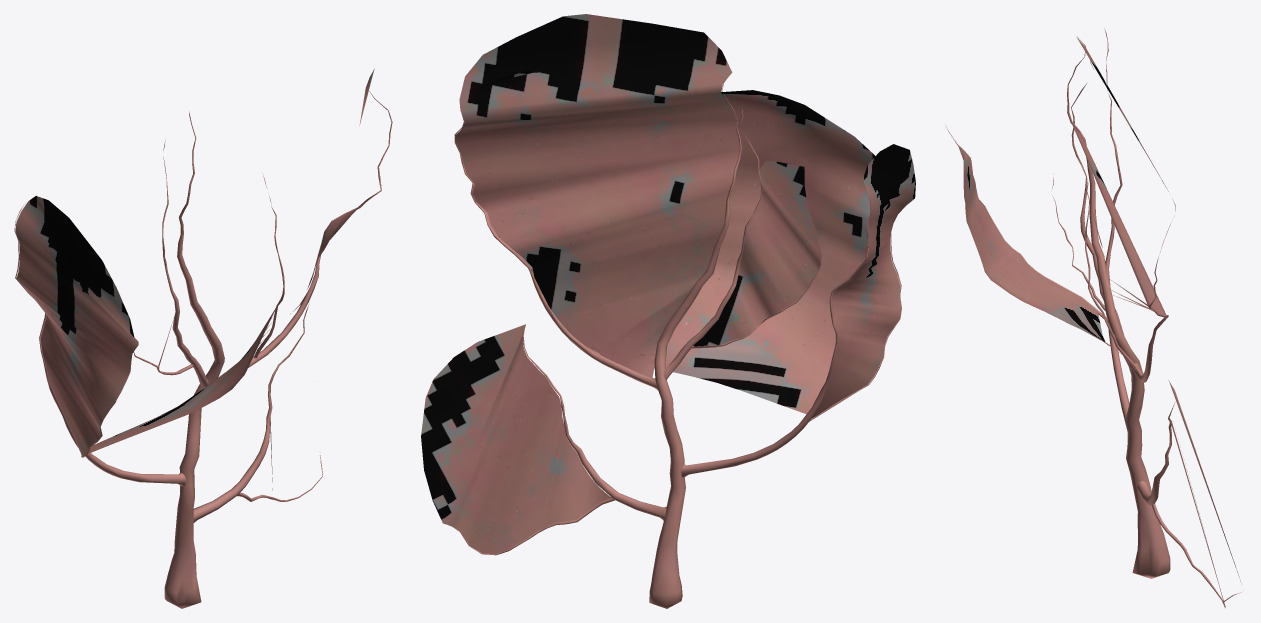
File: CoralFan_02-transformed.glb
The picture shows the model from 3 angles, left to right: view 1: azimuth 30°, elevation 25°; view 2: azimuth 150°, elevation 25°; view 3: azimuth 270°, elevation 25°; orthographic projection. The views are drawn at different scales.
Visible parts, largest first — view 1: CoralFan_02; view 2: CoralFan_02; view 3: CoralFan_02.
Part boxes in pixels (box(x1,y1,x2,y2)): CoralFan_02: box(14, 69, 392, 608); CoralFan_02: box(421, 14, 915, 608); CoralFan_02: box(946, 29, 1241, 608).
Size of the model in its own units: 8.19 by 11.22 by 5.36.
Materials: 1 (1 with a texture image).
